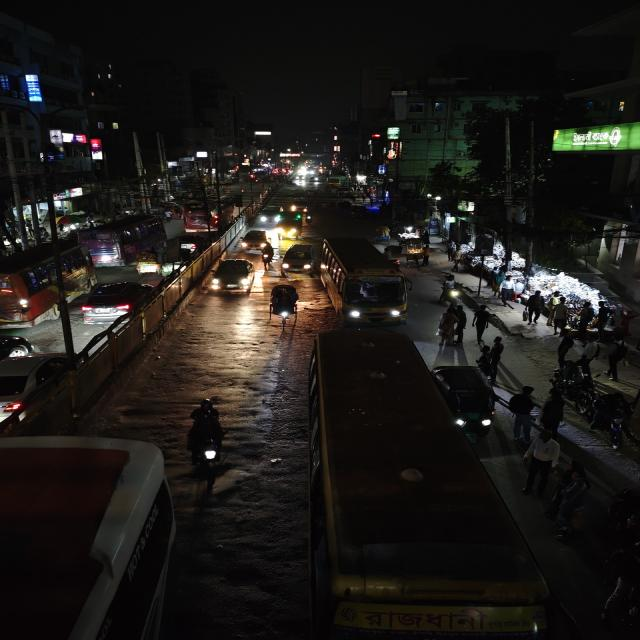bus: (304, 326, 553, 640), (0, 239, 95, 326), (319, 234, 411, 323), (76, 214, 166, 266)
car: (0, 351, 69, 422), (76, 274, 165, 326), (207, 256, 259, 298), (280, 241, 314, 278), (0, 332, 39, 363), (237, 229, 272, 251), (256, 206, 284, 226)
cng: (436, 363, 499, 439)
motorcycle: (180, 397, 230, 476), (598, 544, 640, 638), (437, 274, 465, 305), (258, 242, 276, 270)
pedestrian: (546, 472, 593, 536), (522, 431, 563, 495), (509, 384, 537, 441), (478, 336, 507, 382), (539, 391, 568, 435), (605, 339, 629, 381), (436, 307, 460, 346), (576, 298, 597, 342), (471, 304, 495, 342), (448, 301, 469, 343), (522, 290, 543, 328), (551, 294, 569, 336)
rickshaw: (266, 281, 303, 327), (129, 250, 159, 274)
truck: (275, 213, 300, 239)
